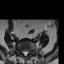CCS_normal: (24, 48, 26, 58)
LFS_severe_stenosis: (28, 49, 31, 55)
LLS_stenosis: (26, 49, 28, 55)
RFS_severe_stenosis: (20, 48, 22, 54)
RLS_normal: (22, 49, 24, 56)
